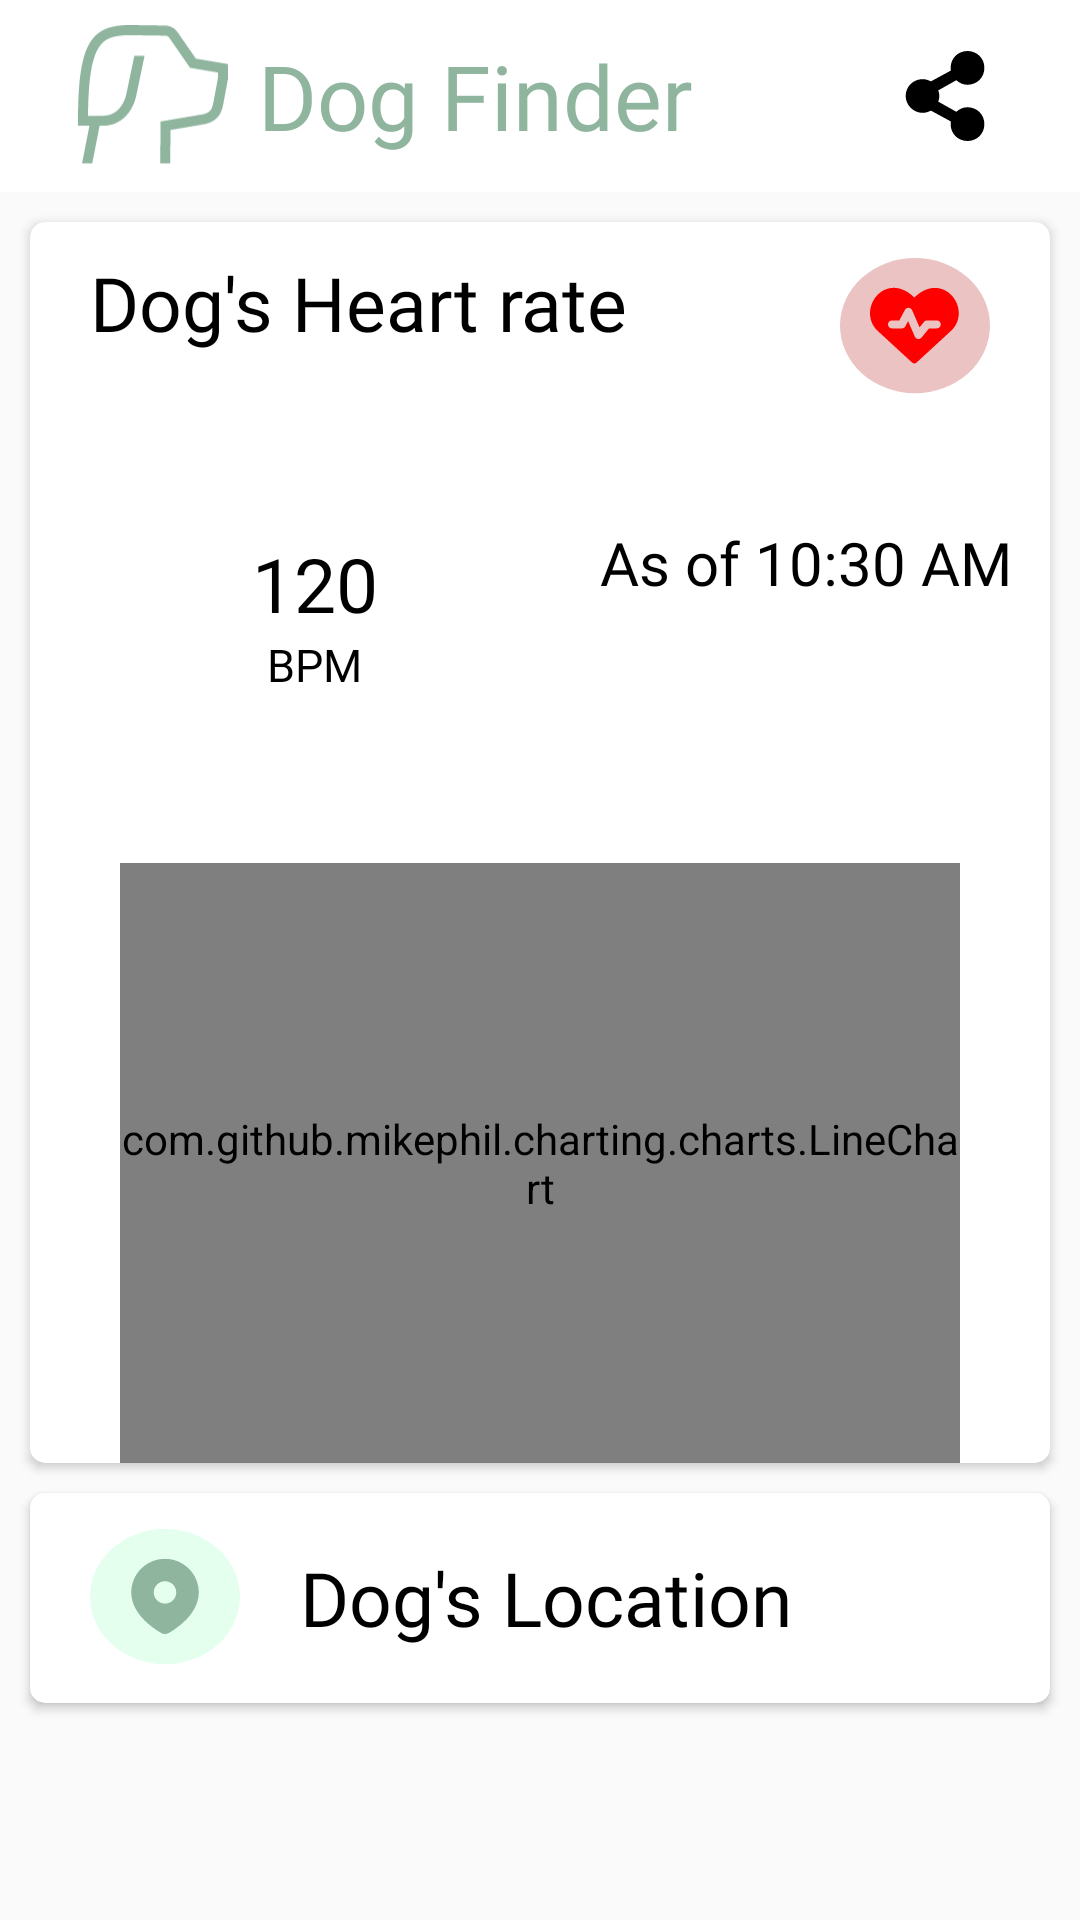

Icon bounding boxes for this 1080 x 1920 phone screenshot, format (x1, y1, x2, y2):
connect: (905, 51, 985, 141)
heart rate: (840, 258, 990, 393)
